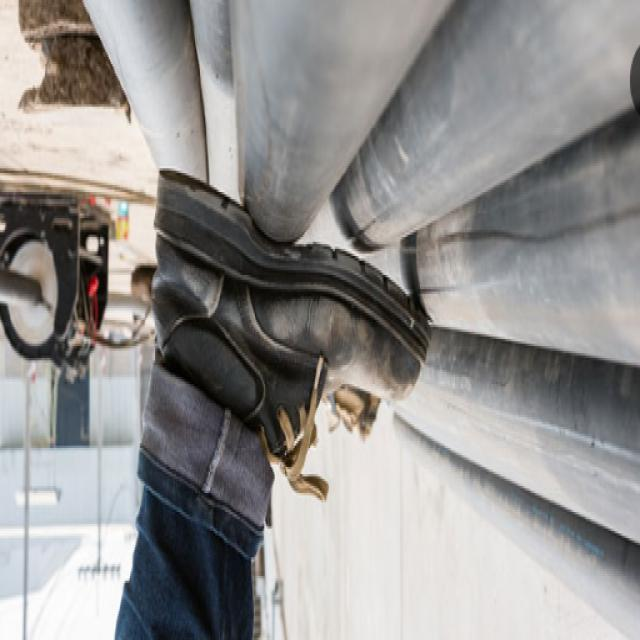boots: (135, 157, 434, 513)
